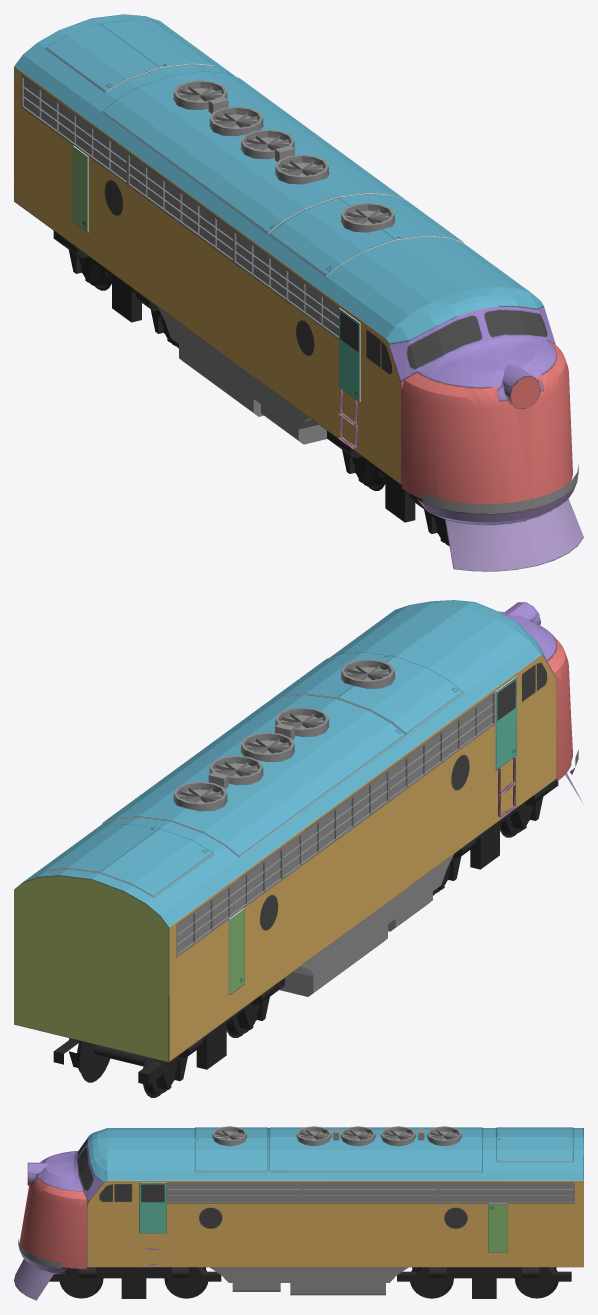
The picture shows the model from 3 angles, top to bottom: view 1: azimuth 30°, elevation 25°; view 2: azimuth 150°, elevation 25°; view 3: azimuth 270°, elevation 25°; orthographic projection. The views are drawn at different scales.
Visible parts, largest first — view 1: instance_5, instance_1, instance_4, instance_2, instance_3, instance_9, instance_7, instance_6, instance_20, instance_17, instance_10, instance_8 (+2 smaller); view 2: instance_5, instance_1, instance_2, instance_4, instance_3, instance_17, instance_6, instance_10, instance_8, instance_18, instance_19, instance_15 (+3 smaller); view 3: instance_1, instance_5, instance_2, instance_3, instance_4, instance_19, instance_18, instance_20, instance_17, instance_15 (×2), instance_14 (×2), instance_7 (+4 smaller).
Part boxes in pixels (x1,y1,x2,y2): instance_5: (14,18,535,571); instance_1: (92,14,583,565); instance_4: (21,75,127,184); instance_2: (127,153,233,262); instance_3: (233,230,339,339); instance_9: (209,106,263,135); instance_7: (275,154,328,184); instance_6: (341,203,394,232); instance_20: (327,431,395,515); instance_17: (53,231,121,314); instance_10: (173,80,227,109); instance_8: (241,129,294,158); instance_5: (91,602,582,1062); instance_1: (14,600,525,1043); instance_2: (282,769,388,879); instance_4: (176,847,282,956); instance_3: (389,692,494,801); instance_17: (138,1028,216,1089); instance_6: (341,659,394,688); instance_10: (173,781,227,811); instance_8: (241,732,294,761); instance_18: (217,978,284,1062); instance_19: (490,779,558,861); instance_15: (76,1041,126,1082); instance_1: (14,1130,583,1300); instance_5: (14,1127,583,1279); instance_2: (302,1182,438,1203); instance_3: (166,1182,302,1203); instance_4: (438,1182,574,1203); instance_19: (484,1267,571,1298); instance_18: (134,1267,221,1298); instance_20: (397,1267,484,1298); instance_17: (49,1267,133,1298); instance_15 (×2): (410,1267,558,1298); instance_14 (×2): (59,1267,207,1298); instance_7: (296,1126,331,1145).
Size of the model in its own units: 3.2 by 4.55 by 14.87.
32 materials, 28 textured.
